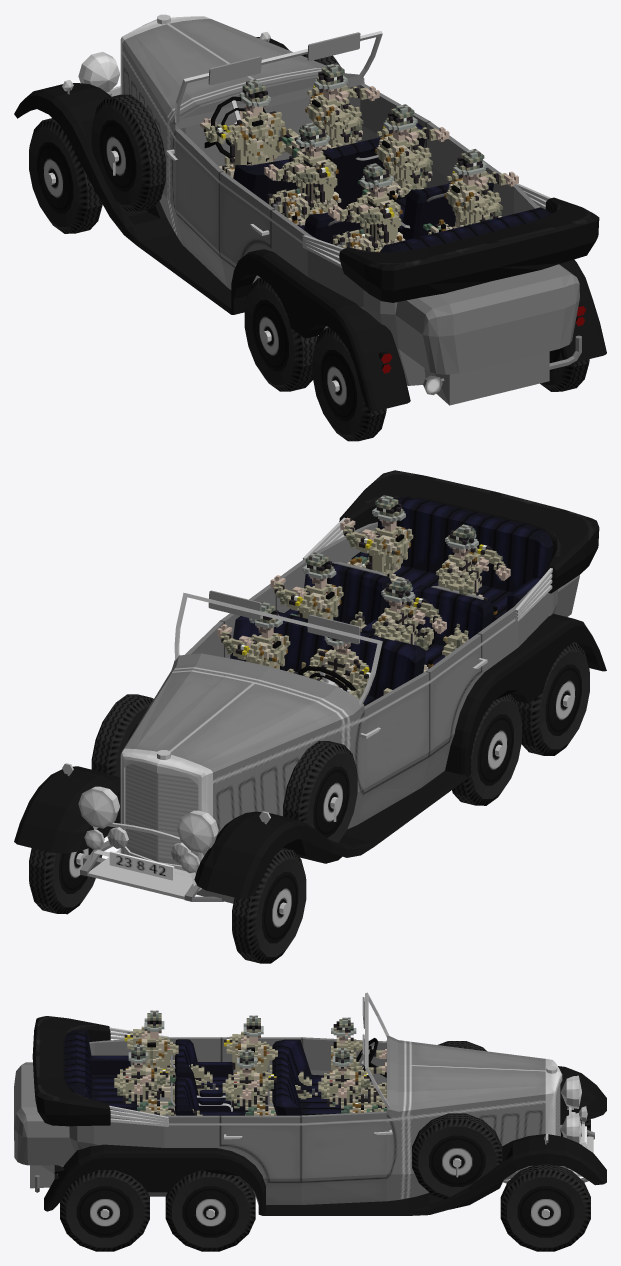
Rendered from staff_car.glb.
3 renders of one model, top to bottom at view 1: azimuth 30°, elevation 25°; view 2: azimuth 150°, elevation 25°; view 3: azimuth 270°, elevation 25°, orthographic. The views are drawn at different scales.
Parts seen in each view (by area): view 1: 00_chassis_staff_car_chassis.mesh, 02_tire_index_0_staff_car_wheel.mesh, 04_tire_index_2_staff_car_wheel.mesh, 06_tire_index_4_staff_car_wheel.mesh, crew_soldier_SLOT_02_PASSENGER, crew_soldier_SLOT_01_PASSENGER, crew_soldier_SLOT_03_PASSENGER, crew_soldier_SLOT_00_DRIVER, crew_soldier_SLOT_04_PASSENGER, crew_soldier_SLOT_05_PASSENGER, 07_tire_index_5_staff_car_wheel.mesh; view 2: 00_chassis_staff_car_chassis.mesh, 02_tire_index_0_staff_car_wheel.mesh, 06_tire_index_4_staff_car_wheel.mesh, 04_tire_index_2_staff_car_wheel.mesh, crew_soldier_SLOT_04_PASSENGER, crew_soldier_SLOT_05_PASSENGER, 03_tire_index_1_staff_car_wheel.mesh, crew_soldier_SLOT_02_PASSENGER, crew_soldier_SLOT_03_PASSENGER, crew_soldier_SLOT_01_PASSENGER, crew_soldier_SLOT_00_DRIVER; view 3: 00_chassis_staff_car_chassis.mesh, 03_tire_index_1_staff_car_wheel.mesh, 05_tire_index_3_staff_car_wheel.mesh, 07_tire_index_5_staff_car_wheel.mesh, crew_soldier_SLOT_05_PASSENGER, crew_soldier_SLOT_04_PASSENGER, crew_soldier_SLOT_01_PASSENGER, crew_soldier_SLOT_03_PASSENGER, crew_soldier_SLOT_02_PASSENGER, crew_soldier_SLOT_00_DRIVER.
Boxes of the visible parts, x1,y1,x2,y2 form: 00_chassis_staff_car_chassis.mesh: (14, 14, 606, 410); 02_tire_index_0_staff_car_wheel.mesh: (29, 118, 102, 233); 04_tire_index_2_staff_car_wheel.mesh: (244, 277, 317, 391); 06_tire_index_4_staff_car_wheel.mesh: (312, 327, 386, 441); crew_soldier_SLOT_02_PASSENGER: (264, 123, 341, 225); crew_soldier_SLOT_01_PASSENGER: (272, 63, 379, 160); crew_soldier_SLOT_03_PASSENGER: (358, 104, 449, 199); crew_soldier_SLOT_00_DRIVER: (200, 79, 284, 177); crew_soldier_SLOT_04_PASSENGER: (328, 163, 405, 252); crew_soldier_SLOT_05_PASSENGER: (423, 149, 518, 234); 07_tire_index_5_staff_car_wheel.mesh: (540, 349, 589, 391); 00_chassis_staff_car_chassis.mesh: (14, 470, 606, 903); 02_tire_index_0_staff_car_wheel.mesh: (232, 848, 306, 963); 06_tire_index_4_staff_car_wheel.mesh: (517, 642, 589, 755); 04_tire_index_2_staff_car_wheel.mesh: (452, 694, 521, 805); crew_soldier_SLOT_04_PASSENGER: (414, 524, 510, 656); crew_soldier_SLOT_05_PASSENGER: (340, 495, 413, 631); 03_tire_index_1_staff_car_wheel.mesh: (29, 848, 102, 914); crew_soldier_SLOT_02_PASSENGER: (361, 577, 446, 695); crew_soldier_SLOT_03_PASSENGER: (270, 552, 343, 674); crew_soldier_SLOT_01_PASSENGER: (217, 601, 290, 669); crew_soldier_SLOT_00_DRIVER: (303, 636, 371, 699); 00_chassis_staff_car_chassis.mesh: (14, 992, 606, 1215); 03_tire_index_1_staff_car_wheel.mesh: (500, 1164, 590, 1251); 05_tire_index_3_staff_car_wheel.mesh: (165, 1170, 255, 1251); 07_tire_index_5_staff_car_wheel.mesh: (60, 1170, 149, 1251); crew_soldier_SLOT_05_PASSENGER: (114, 1044, 202, 1115); crew_soldier_SLOT_04_PASSENGER: (124, 1010, 218, 1102); crew_soldier_SLOT_01_PASSENGER: (318, 1048, 386, 1113); crew_soldier_SLOT_03_PASSENGER: (222, 1049, 276, 1115); crew_soldier_SLOT_02_PASSENGER: (224, 1015, 317, 1106); crew_soldier_SLOT_00_DRIVER: (331, 1017, 386, 1111).
Bounding box in the file's own units: 2.34 × 2.24 × 6.51.
Materials: 37 (1 with a texture image).
